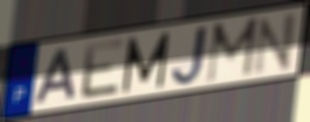A: (33, 46, 79, 107)
E: (79, 37, 127, 102)
J: (169, 24, 210, 88)
M: (204, 14, 261, 85), (121, 30, 172, 96)
N: (251, 11, 298, 77)
